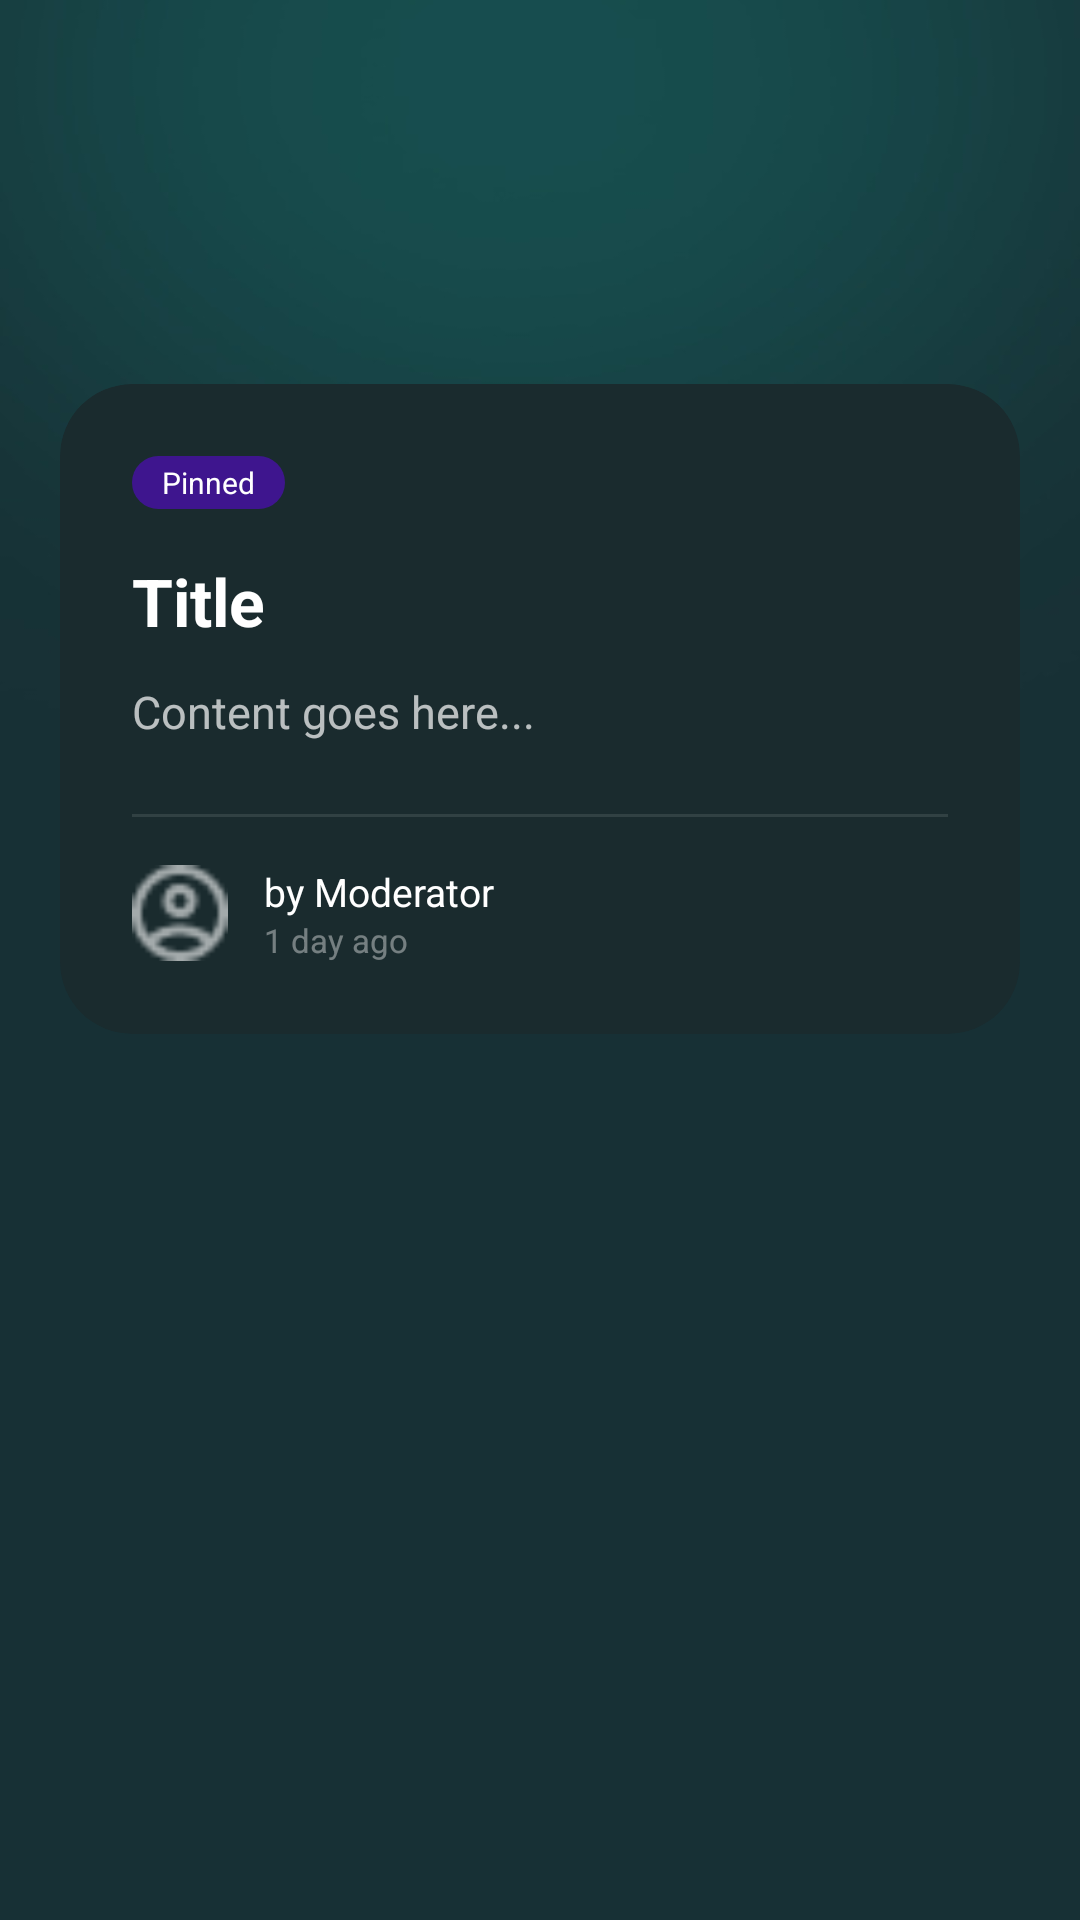

Named icons in this screenshot (1080w x 1920h) and their centers, (x=x, y=y):
profile: (x=180, y=913)
